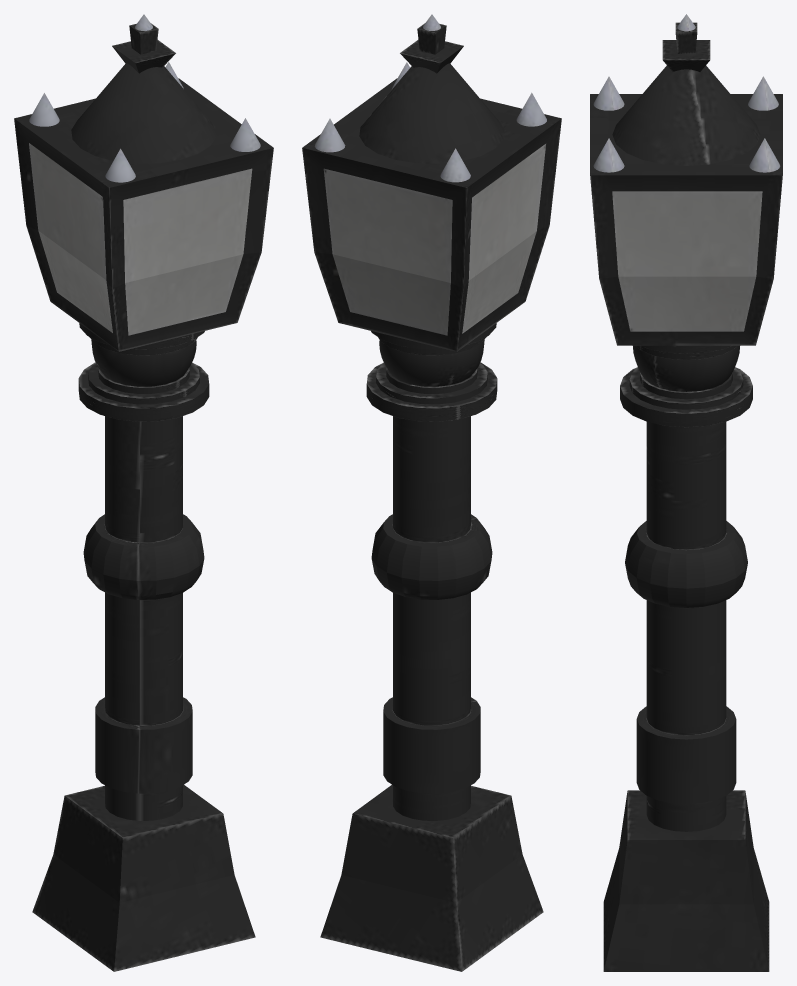
The model's file is SM_Light_Export_01.fbx.
The picture shows the model from 3 angles, left to right: view 1: azimuth 30°, elevation 25°; view 2: azimuth 150°, elevation 25°; view 3: azimuth 270°, elevation 25°; orthographic projection.
Visible parts, largest first — view 1: pCube6; view 2: pCube6; view 3: pCube6.
Boxes of the visible parts, x1,y1,x2,y2 form: pCube6: [14, 14, 273, 971]; pCube6: [302, 14, 561, 971]; pCube6: [590, 14, 782, 971].
Size of the model in its own units: 1.7 by 8.96 by 1.7.
Materials: 1 (1 with a texture image).
